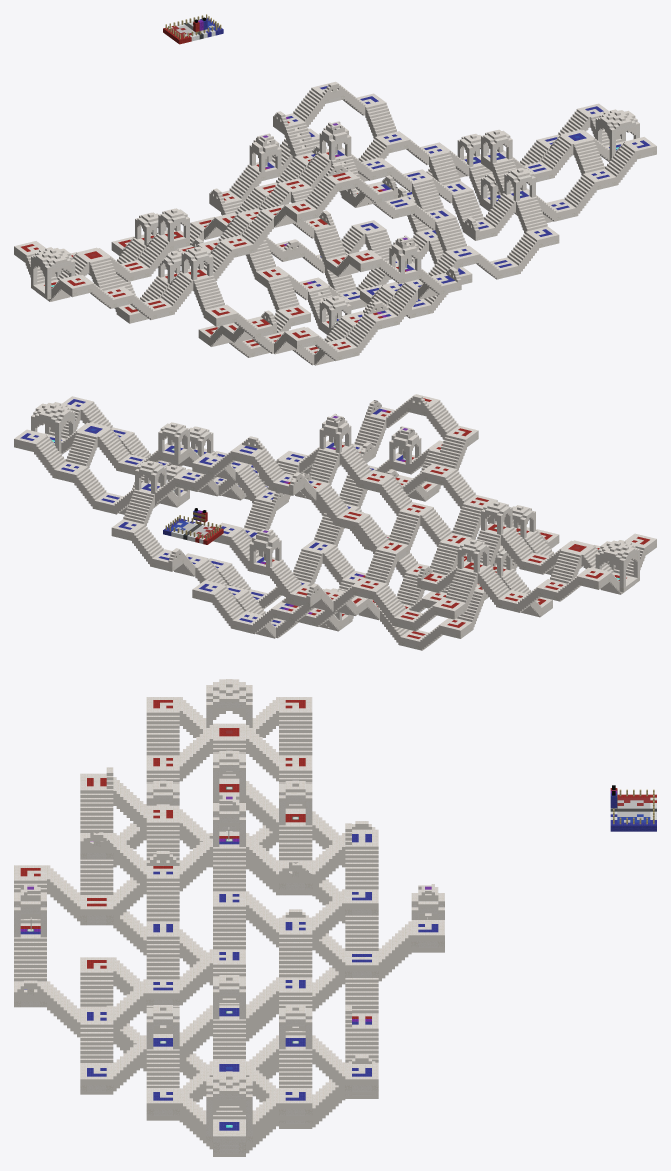
Rendered from minecraft.obj.
3 views of the same model, one above another, from view 1: azimuth 30°, elevation 25°; view 2: azimuth 150°, elevation 25°; view 3: azimuth 270°, elevation 25° (orthographic). The views are drawn at different scales.
Bounding box in the file's own units: 147 × 50.52 × 97.
